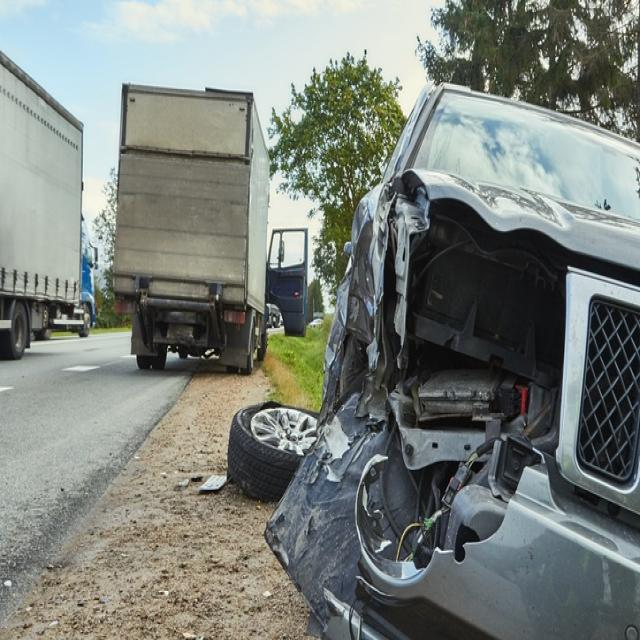accident: (265, 84, 640, 639)
